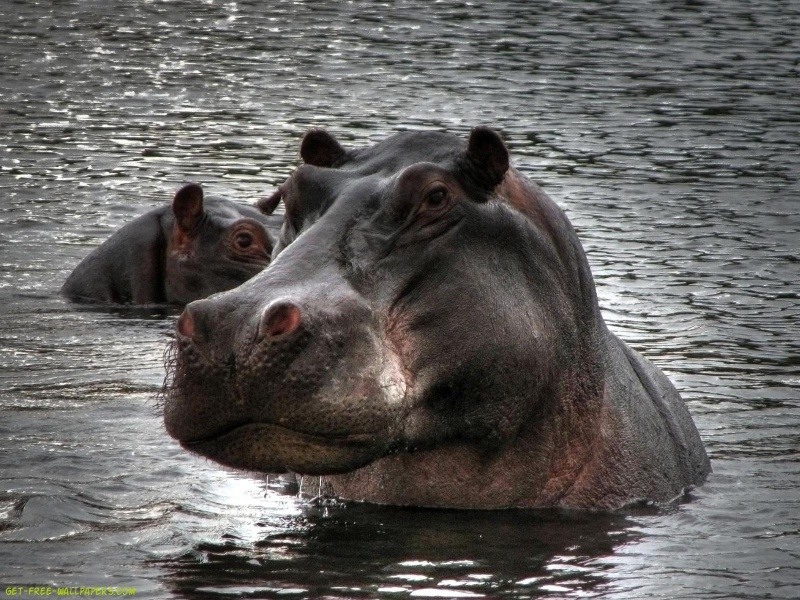hipopotamo: (158, 127, 716, 513), (59, 185, 316, 313)
